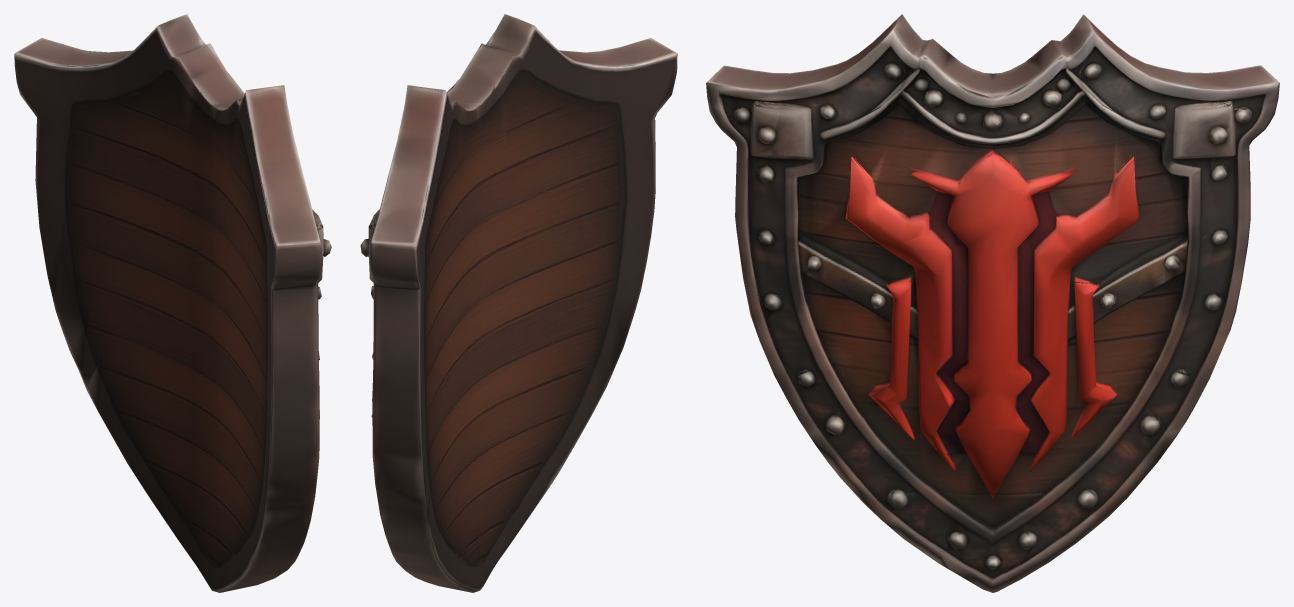
File: medieval+shield+3d+model.fbx
3 views of the same model, side by side, from view 1: azimuth 30°, elevation 25°; view 2: azimuth 150°, elevation 25°; view 3: azimuth 270°, elevation 25° (orthographic). The views are drawn at different scales.
Parts seen in each view (by area): view 1: tripo_node_9d61e42b; view 2: tripo_node_9d61e42b; view 3: tripo_node_9d61e42b.
Part boxes in pixels (bbox=[...]): tripo_node_9d61e42b: bbox=[14, 14, 331, 592]; tripo_node_9d61e42b: bbox=[360, 14, 677, 592]; tripo_node_9d61e42b: bbox=[706, 14, 1279, 592].
Bounding box in the file's own units: 0.238 × 1 × 0.9395.
Materials: 1 (1 with a texture image).
